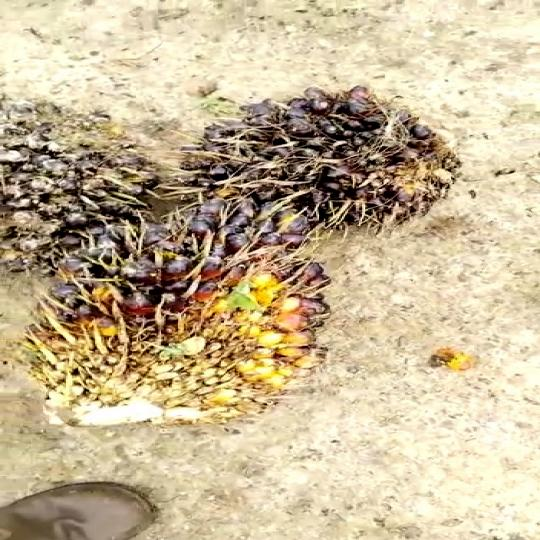mentah: (29, 210, 357, 424), (173, 73, 479, 229), (0, 83, 144, 260)
